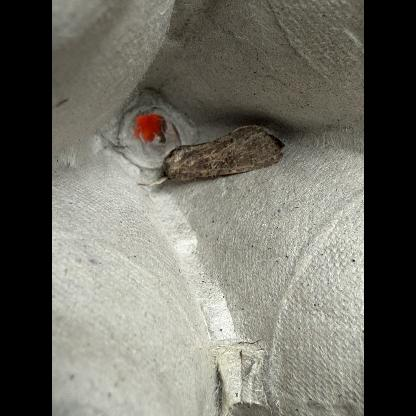Fall Armyworm Moth: (134, 120, 288, 188)
